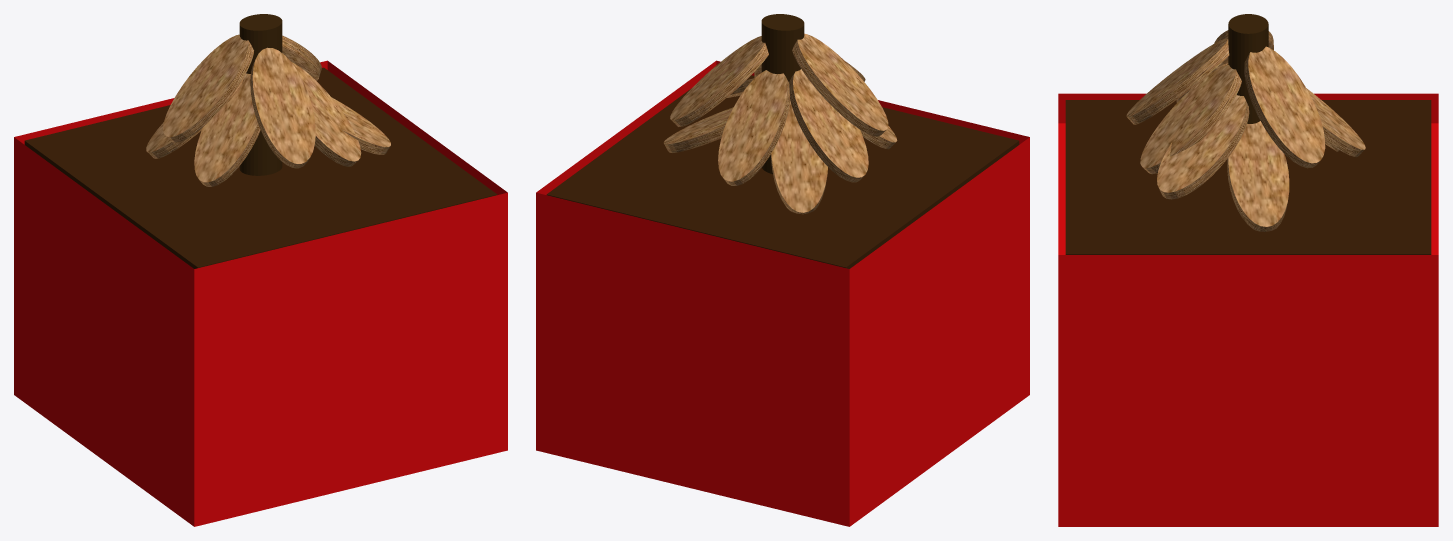
The model's file is Plant2.fbx.
The picture shows the model from 3 angles, left to right: view 1: azimuth 30°, elevation 25°; view 2: azimuth 150°, elevation 25°; view 3: azimuth 270°, elevation 25°; orthographic projection. The views are drawn at different scales.
Visible parts, largest first — view 1: Cube, Cube.001, Cylinder.008, Cylinder.006, Cylinder.007, Cylinder.010, Cylinder, Cylinder.009, Cylinder.002, Cylinder.004; view 2: Cube, Cube.001, Cylinder.001, Cylinder.004, Cylinder.006, Cylinder.005, Cylinder.002, Cylinder, Cylinder.003; view 3: Cube, Cube.001, Cylinder.002, Cylinder.003, Cylinder.010, Cylinder.009, Cylinder.008, Cylinder, Cylinder.001.
Boxes of the visible parts, left/top/right/bottom form: Cube: left=14, top=60, right=507, bottom=526; Cube.001: left=24, top=67, right=497, bottom=268; Cylinder.008: left=250, top=47, right=315, bottom=168; Cylinder.006: left=163, top=34, right=253, bottom=142; Cylinder.007: left=194, top=73, right=260, bottom=186; Cylinder.010: left=291, top=62, right=361, bottom=166; Cylinder: left=239, top=14, right=282, bottom=175; Cylinder.009: left=332, top=97, right=390, bottom=154; Cylinder.002: left=282, top=35, right=321, bottom=80; Cylinder.004: left=146, top=77, right=243, bottom=158; Cube: left=536, top=60, right=1029, bottom=526; Cube.001: left=546, top=75, right=1019, bottom=268; Cylinder.001: left=718, top=70, right=790, bottom=185; Cylinder.004: left=789, top=69, right=868, bottom=182; Cylinder.006: left=792, top=33, right=888, bottom=136; Cylinder.005: left=771, top=101, right=827, bottom=214; Cylinder.002: left=670, top=36, right=768, bottom=126; Cylinder: left=761, top=14, right=804, bottom=174; Cylinder.003: left=663, top=107, right=733, bottom=152; Cube: left=1058, top=93, right=1438, bottom=526; Cube.001: left=1065, top=100, right=1431, bottom=254; Cylinder.002: left=1244, top=46, right=1325, bottom=168; Cylinder.003: left=1227, top=121, right=1289, bottom=231; Cylinder.010: left=1140, top=65, right=1241, bottom=174; Cylinder.009: left=1157, top=95, right=1249, bottom=199; Cylinder.008: left=1126, top=38, right=1229, bottom=124; Cylinder: left=1228, top=14, right=1268, bottom=123; Cylinder.001: left=1306, top=88, right=1365, bottom=157.
Bounding box in the file's own units: 117 × 143 × 117.
13 materials, 10 textured.
